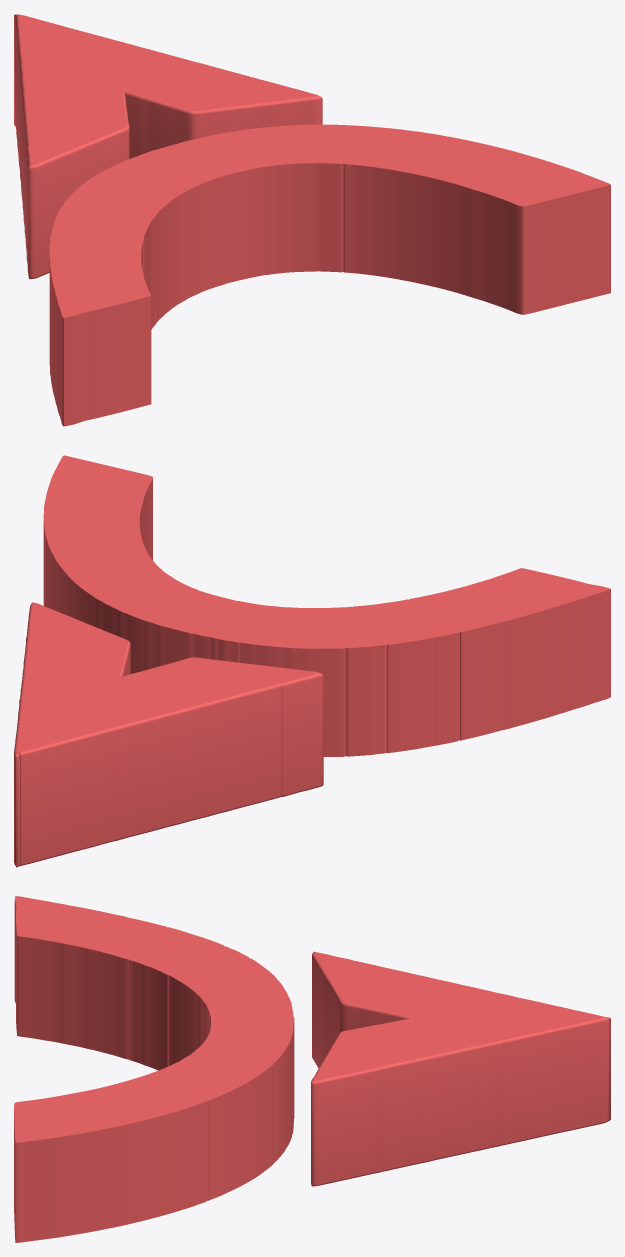
The model's file is agnas1-transformed.glb.
The picture shows the model from 3 angles, top to bottom: view 1: azimuth 30°, elevation 25°; view 2: azimuth 150°, elevation 25°; view 3: azimuth 270°, elevation 25°; orthographic projection. The views are drawn at different scales.
Parts seen in each view (by area): view 1: Curve, Curve.001; view 2: Curve, Curve.001; view 3: Curve, Curve.001.
Boxes of the visible parts, x1,y1,x2,y2 form: Curve: (49, 124, 610, 426); Curve.001: (14, 14, 322, 279); Curve: (43, 455, 610, 756); Curve.001: (14, 602, 323, 867); Curve: (14, 896, 294, 1242); Curve.001: (311, 951, 610, 1186).
Bounding box in the file's own units: 0.7223 × 0.1435 × 0.7388.
